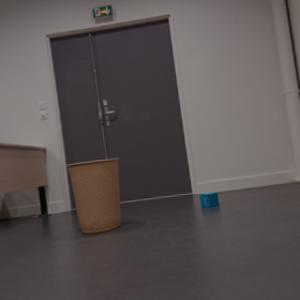medium: (72, 158, 122, 233)
small: (198, 192, 218, 209)
